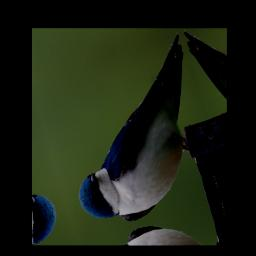Swallow: (44, 33, 225, 238)
